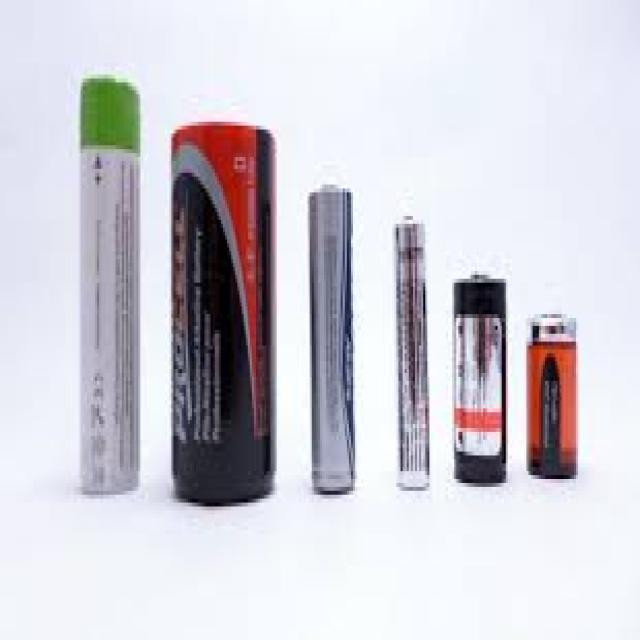Battery: (164, 90, 290, 520), (66, 52, 152, 516), (301, 162, 366, 505), (445, 248, 517, 493), (386, 197, 434, 498), (527, 292, 595, 484)
